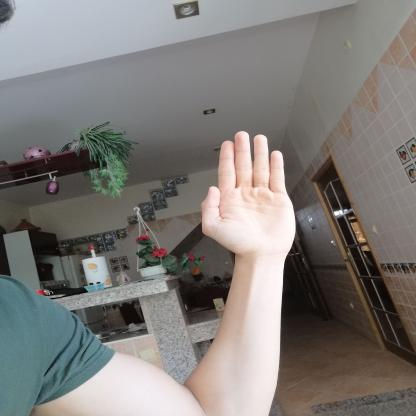SEEN: (187, 126, 304, 264)
